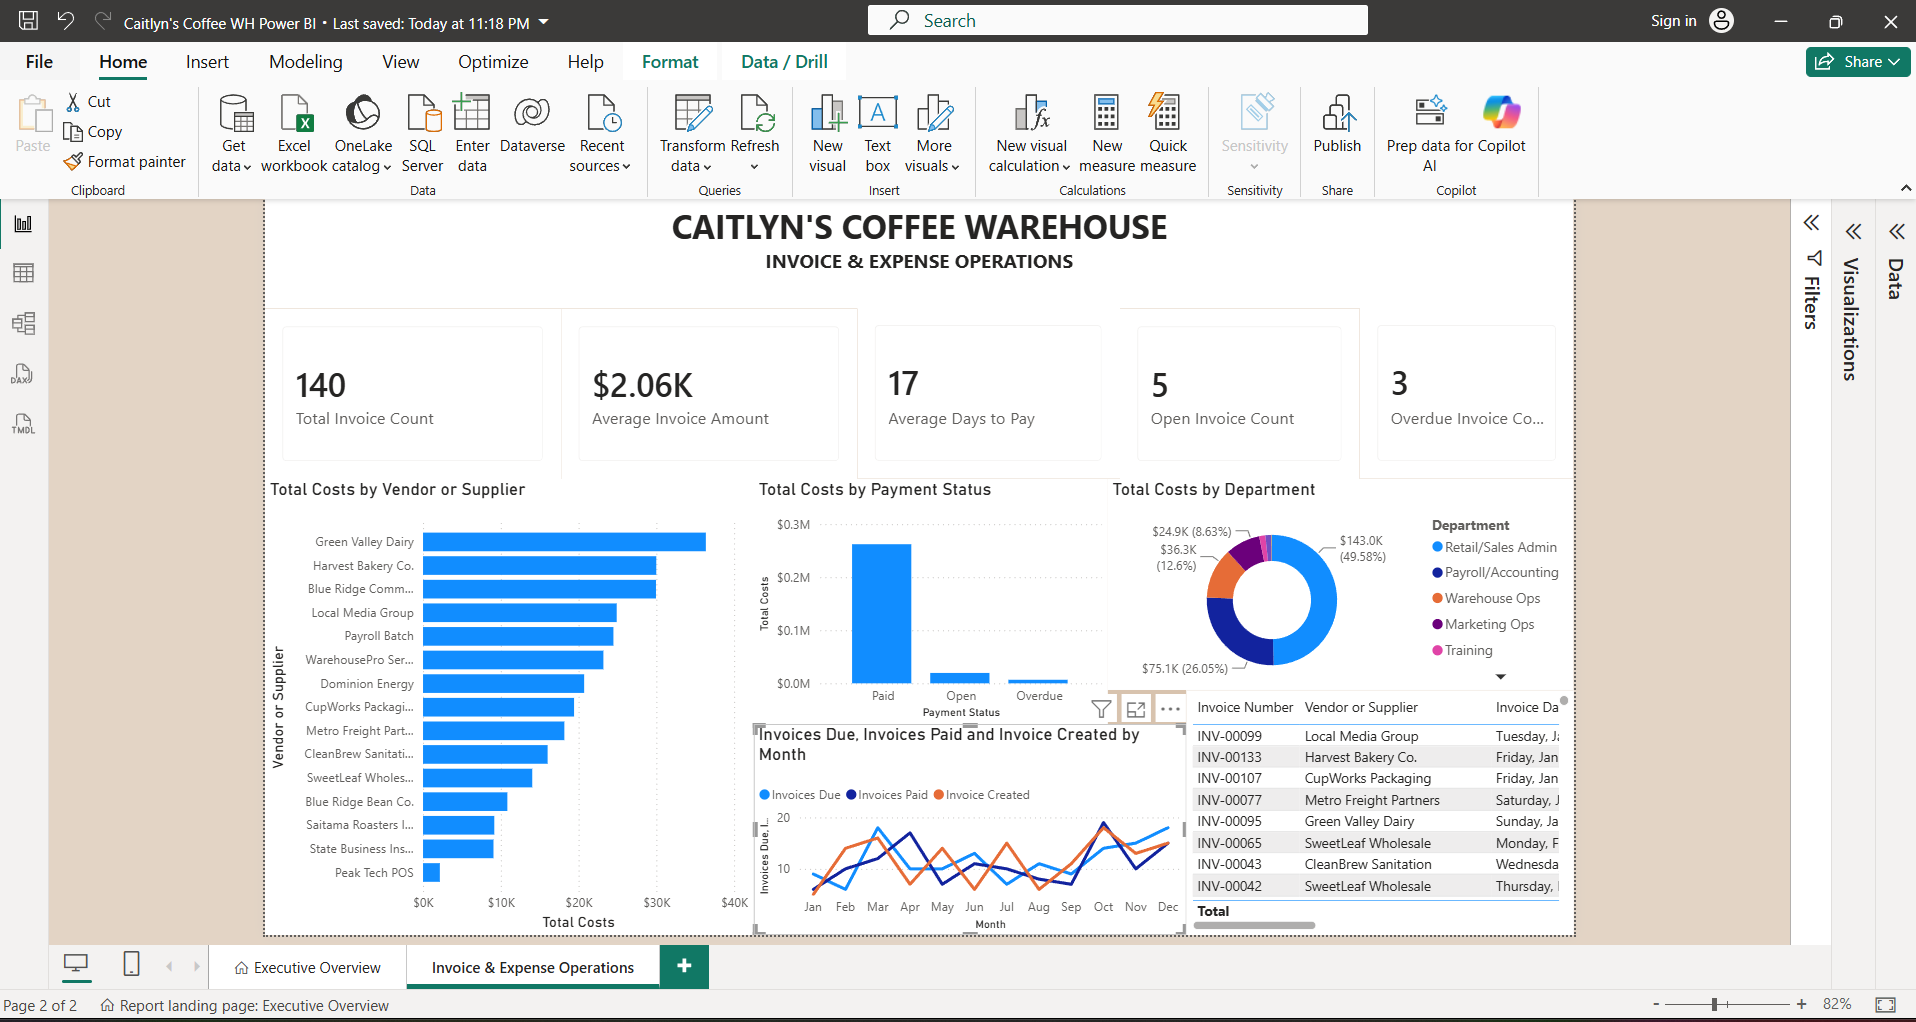

The dashboard page shown, as its layout file describes it:
{"tool":"powerbi","page":{"name":"Invoice & Expense Operations","canvas":[1280,720],"ordinal":1},"visuals":[{"type":"cardVisual","fields":{"Data":["Measures (2).Total Invoice Count"]},"box":[0,78.3,226.2,166.3],"z":0},{"type":"textbox","box":[0,0,1280.3,80.7],"z":1000},{"type":"cardVisual","fields":{"Data":["Measures (2).Average Invoice Amount"]},"box":[0,244.6,226.2,168.8],"z":2000},{"type":"cardVisual","fields":{"Data":["Measures (2).Average Days to Pay"]},"box":[0,413.3,226.2,159],"z":3000},{"type":"cardVisual","fields":{"Data":["Measures (2).Open Invoice Count","Measures (2).Overdue Invoice Count"]},"box":[0,572.3,226.2,148],"z":4000},{"type":"clusteredColumnChart","fields":{"Category":["Costs_Raw PQ.Payment Status"],"Y":["Measures (2).Total Costs"]},"box":[706.8,80.7,573.5,176.1],"z":5000},{"type":"clusteredBarChart","fields":{"Y":["Measures (2).Total Costs"],"Category":["Costs_Raw PQ.Vendor or Supplier"]},"box":[226.2,80.7,480.6,432.9],"z":6000},{"type":"lineChart","title":"Monthly Invoice Lifecycle","fields":{"Category":["Date.Month"],"Y":["Measures (2).Invoices Due","Measures (2).Invoices Paid","Measures (2).Invoice Created"]},"box":[706.8,256.8,573.5,188.3],"z":7000},{"type":"donutChart","fields":{"Category":["Costs_Raw PQ.Department"],"Y":["Measures (2).Total Costs"]},"box":[226.2,513.6,480.6,206.7],"z":8000},{"type":"tableEx","fields":{"Values":["Costs_Raw PQ.Invoice Number                    ","Costs_Raw PQ.Vendor or Supplier","Costs_Raw PQ.Invoice Date","Costs_Raw PQ.Due Date","Costs_Raw PQ.Paid Date","Costs_Raw PQ.Payment Status","Sum(Costs_Raw PQ.Total Cost)"]},"box":[706.8,445.1,573.5,275.1],"z":9000}]}

Visuals, with their boxes on the page's 1280x720 design canvas (x1, y1, x2, y2). These are canvas units, not pixel positions in the 1916x1022 screenshot, which may show the page scaled, cropped or inside an application window:
cardVisual - Measures (2).Total Invoice Count: detection(0, 78, 226, 245)
textbox: detection(0, 0, 1280, 81)
cardVisual - Measures (2).Average Invoice Amount: detection(0, 245, 226, 413)
cardVisual - Measures (2).Average Days to Pay: detection(0, 413, 226, 572)
cardVisual - Measures (2).Open Invoice Count x Measures (2).Overdue Invoice Count: detection(0, 572, 226, 720)
clusteredColumnChart - Costs_Raw PQ.Payment Status x Measures (2).Total Costs: detection(707, 81, 1280, 257)
clusteredBarChart - Measures (2).Total Costs x Costs_Raw PQ.Vendor or Supplier: detection(226, 81, 707, 514)
"Monthly Invoice Lifecycle" lineChart: detection(707, 257, 1280, 445)
donutChart - Costs_Raw PQ.Department x Measures (2).Total Costs: detection(226, 514, 707, 720)
tableEx - Costs_Raw PQ.Invoice Number                     x Costs_Raw PQ.Vendor or Supplier: detection(707, 445, 1280, 720)
